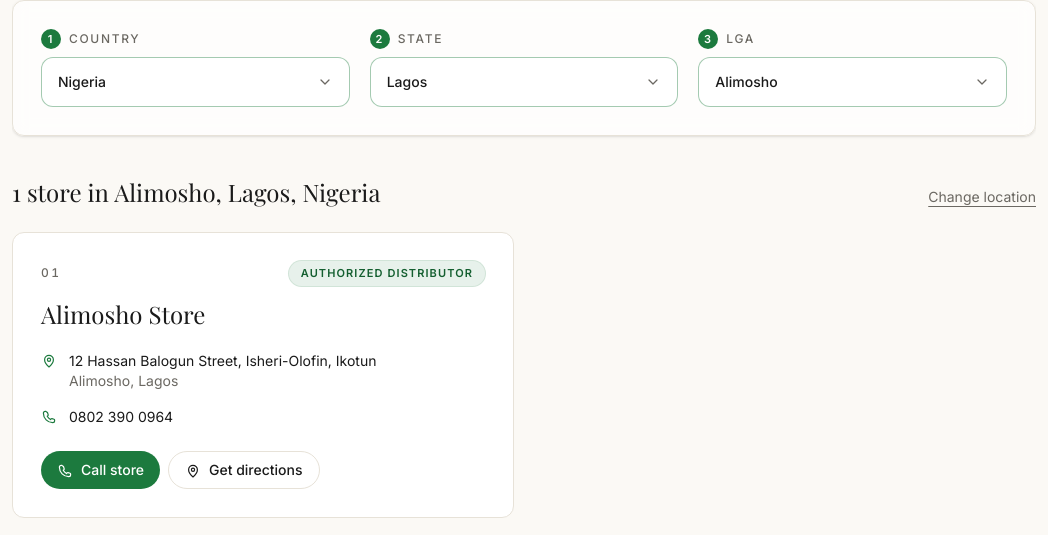
Test: StoreFinder › clears the previous results the moment the state changes
Expected: the heading "Alimosho Store" is shown, [41,298,205,330]
Click the dropdown named "LGA" at (746, 82), box [698,57,1007,107]
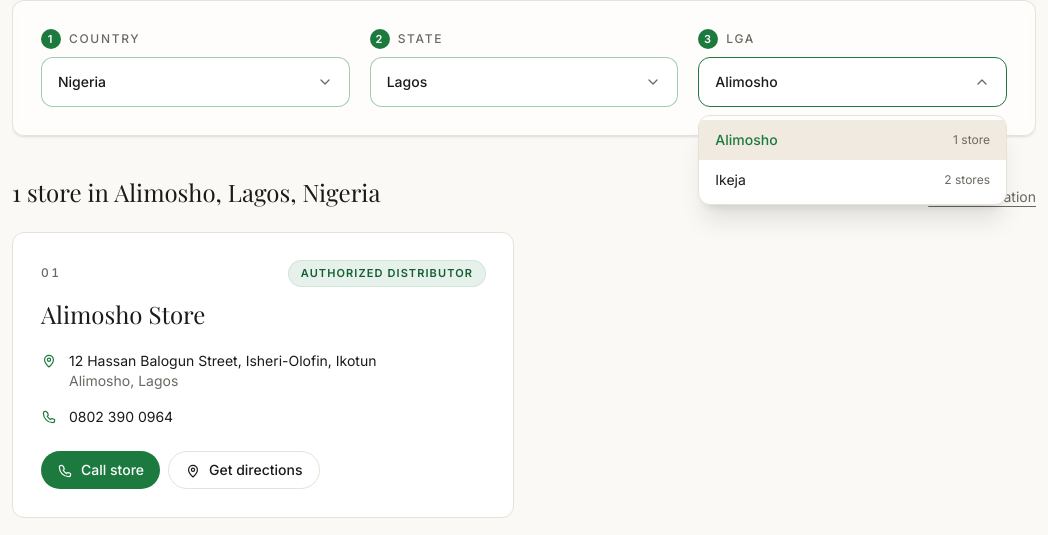
Click the option "Ikeja 2 stores" at (731, 180), box [715,171,990,188]
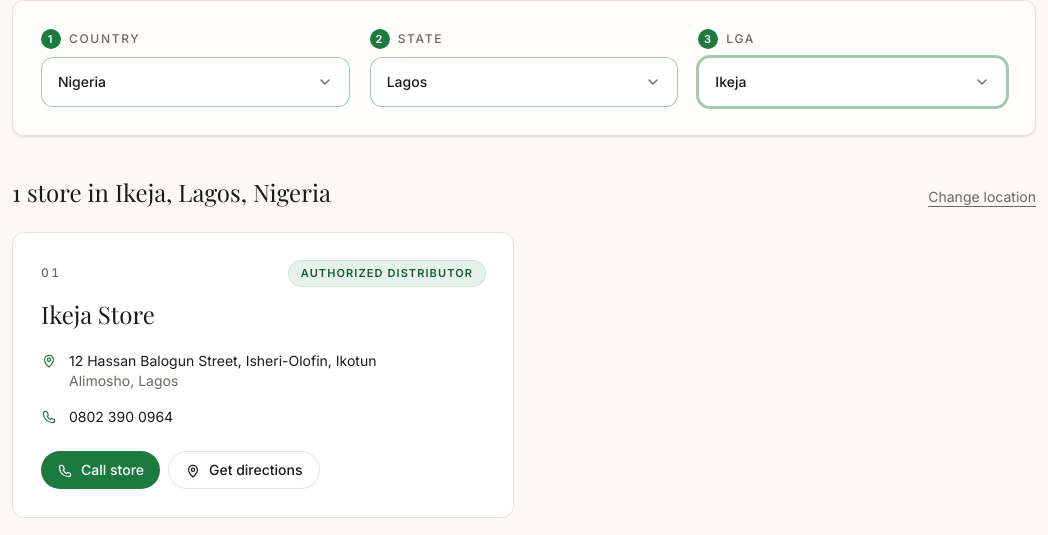
Now the heading "Alimosho Store" is gone
Now the heading "Ikeja Store" is shown, box [41,298,155,330]
